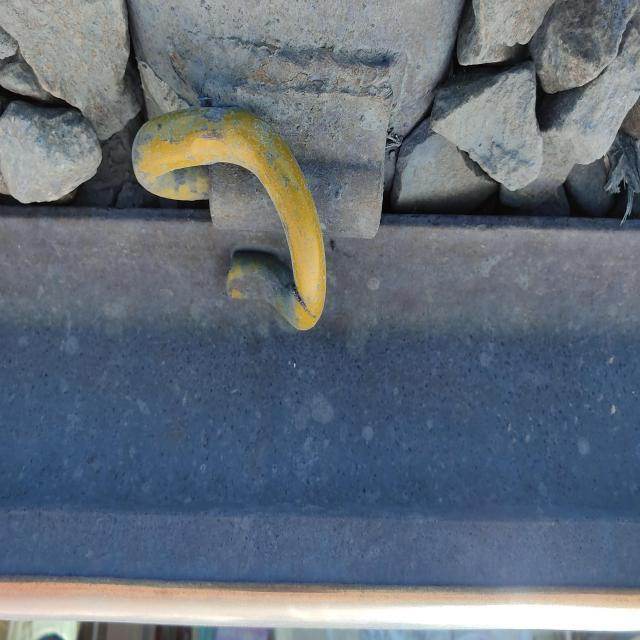Good Fasteners: (74, 43, 431, 394)
